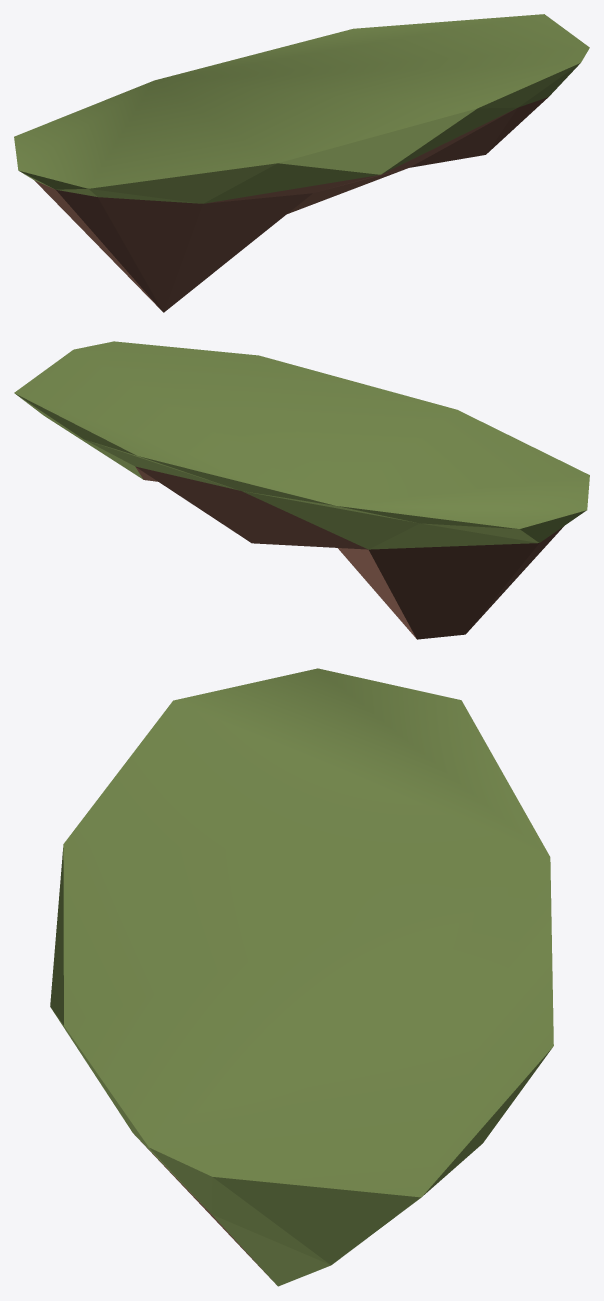
The model's file is lvl2-plataformaDer.fbx.
3 renders of one model, top to bottom at view 1: azimuth 30°, elevation 25°; view 2: azimuth 150°, elevation 25°; view 3: azimuth 270°, elevation 25°, orthographic. The views are drawn at different scales.
Parts seen in each view (by area): view 1: Icosphere.007; view 2: Icosphere.007; view 3: Icosphere.007.
Part boxes in pixels (bbox=[...]): Icosphere.007: bbox=[14, 14, 589, 312]; Icosphere.007: bbox=[14, 341, 589, 639]; Icosphere.007: bbox=[50, 668, 553, 1286].
Bounding box in the file's own units: 8277 × 2568 × 3298.
